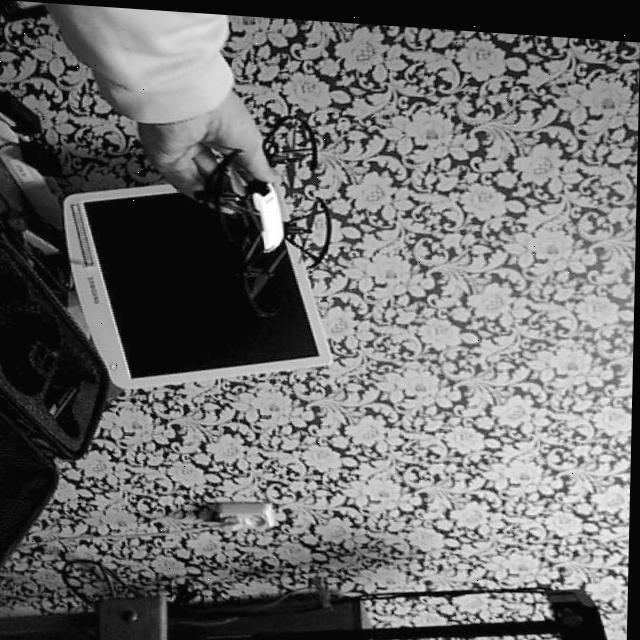drone: (202, 107, 331, 305)
